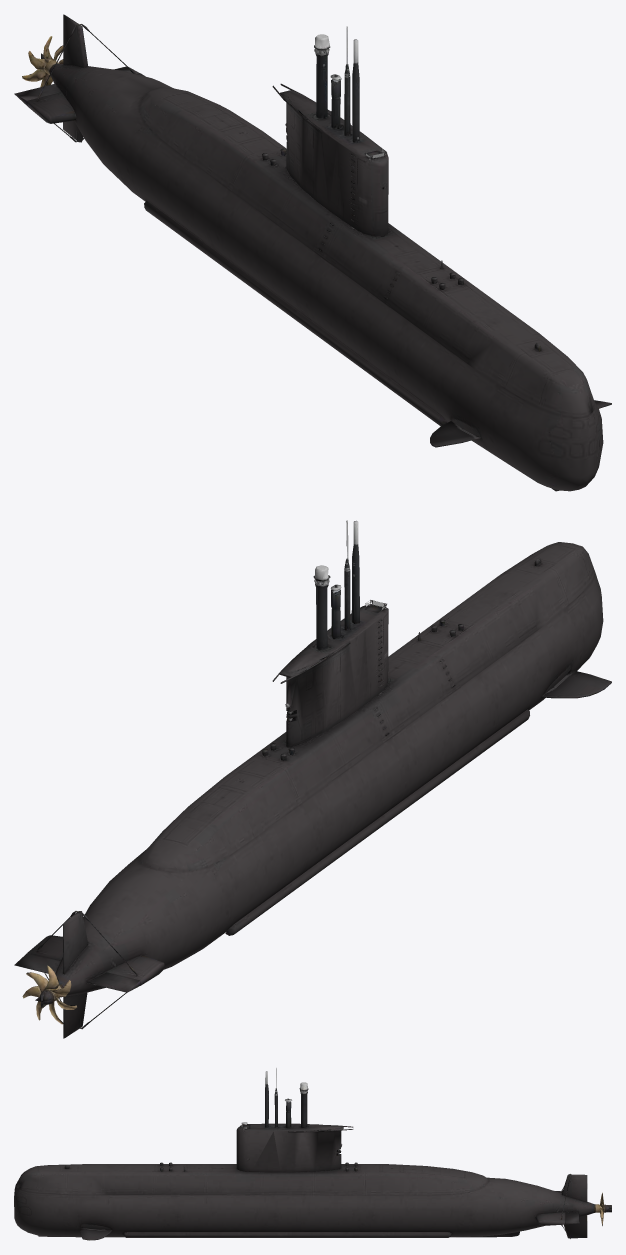
Rendered from realistic-by.76880fe3d732.submarine.glb.
3 views of the same model, one above another, from view 1: azimuth 30°, elevation 25°; view 2: azimuth 150°, elevation 25°; view 3: azimuth 270°, elevation 25° (orthographic). The views are drawn at different scales.
Parts seen in each view (by area): view 1: submarine; view 2: submarine; view 3: submarine.
Part boxes in pixels (x1,y1,x2,y2): submarine: (14,14,611,491); submarine: (14,520,611,1038); submarine: (14,1067,611,1240).
Bounding box in the file's own units: 10.44 × 17.65 × 56.
1 material, 1 textured.
